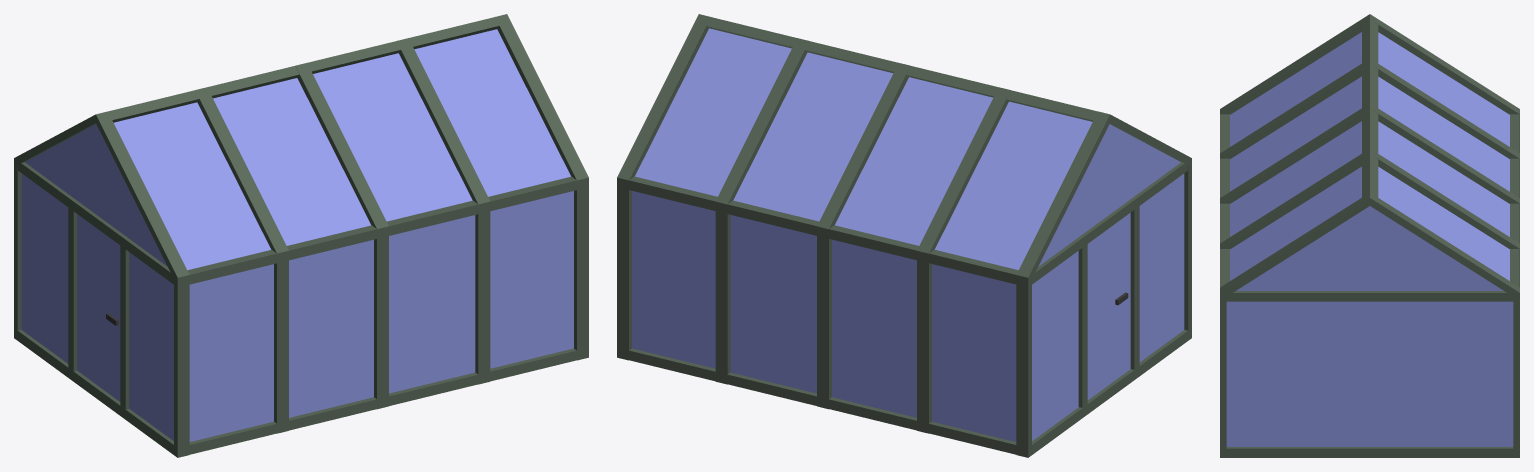
File: greenhouse.fbx
The picture shows the model from 3 angles, left to right: view 1: azimuth 30°, elevation 25°; view 2: azimuth 150°, elevation 25°; view 3: azimuth 270°, elevation 25°; orthographic projection. The views are drawn at different scales.
Parts seen in each view (by area): view 1: Cube, Cube.006, Cube.007, Cube.004, Cube.005, Cube.003, Cube.001, Cube.002, Cube.010, Cube.011, Cube.013, Cube.014; view 2: Cube, Cube.006, Cube.004, Cube.005, Cube.003, Cube.001, Cube.008, Cube.009, Cube.010, Cube.011, Cube.013, Cube.014; view 3: Cube, Cube.005, Cube.001, Cube.006, Cube.004, Cube.003, Cube.012, Cube.010, Cube.007, Cube.008.
Boxes of the visible parts, box(x1,y1,x2,y2) form: Cube: box(21, 29, 573, 441); Cube.006: box(14, 111, 189, 457); Cube.007: box(185, 176, 581, 285); Cube.004: box(397, 38, 490, 384); Cube.005: box(495, 14, 588, 360); Cube.003: box(195, 87, 288, 433); Cube.001: box(295, 63, 388, 409); Cube.002: box(182, 348, 583, 456); Cube.010: box(108, 17, 499, 122); Cube.011: box(18, 162, 173, 284); Cube.013: box(68, 204, 77, 371); Cube.014: box(120, 242, 129, 409); Cube: box(632, 28, 1184, 441); Cube.006: box(1016, 111, 1191, 457); Cube.004: box(715, 38, 808, 384); Cube.005: box(617, 14, 710, 360); Cube.003: box(917, 87, 1010, 433); Cube.001: box(817, 63, 910, 409); Cube.008: box(629, 176, 1018, 284); Cube.009: box(629, 348, 1016, 454); Cube.010: box(706, 17, 1097, 121); Cube.011: box(1032, 162, 1187, 284); Cube.013: box(1078, 241, 1087, 407); Cube.014: box(1130, 203, 1139, 369); Cube: box(1226, 32, 1513, 446); Cube.005: box(1220, 193, 1519, 457); Cube.001: box(1220, 103, 1519, 242); Cube.006: box(1220, 14, 1519, 152); Cube.004: box(1220, 149, 1519, 287); Cube.003: box(1220, 58, 1519, 197); Cube.012: box(1226, 291, 1513, 301); Cube.010: box(1362, 19, 1378, 197); Cube.007: box(1220, 114, 1229, 287); Cube.008: box(1510, 114, 1519, 286).
Bounding box in the file's own units: 420 × 277 × 289.
